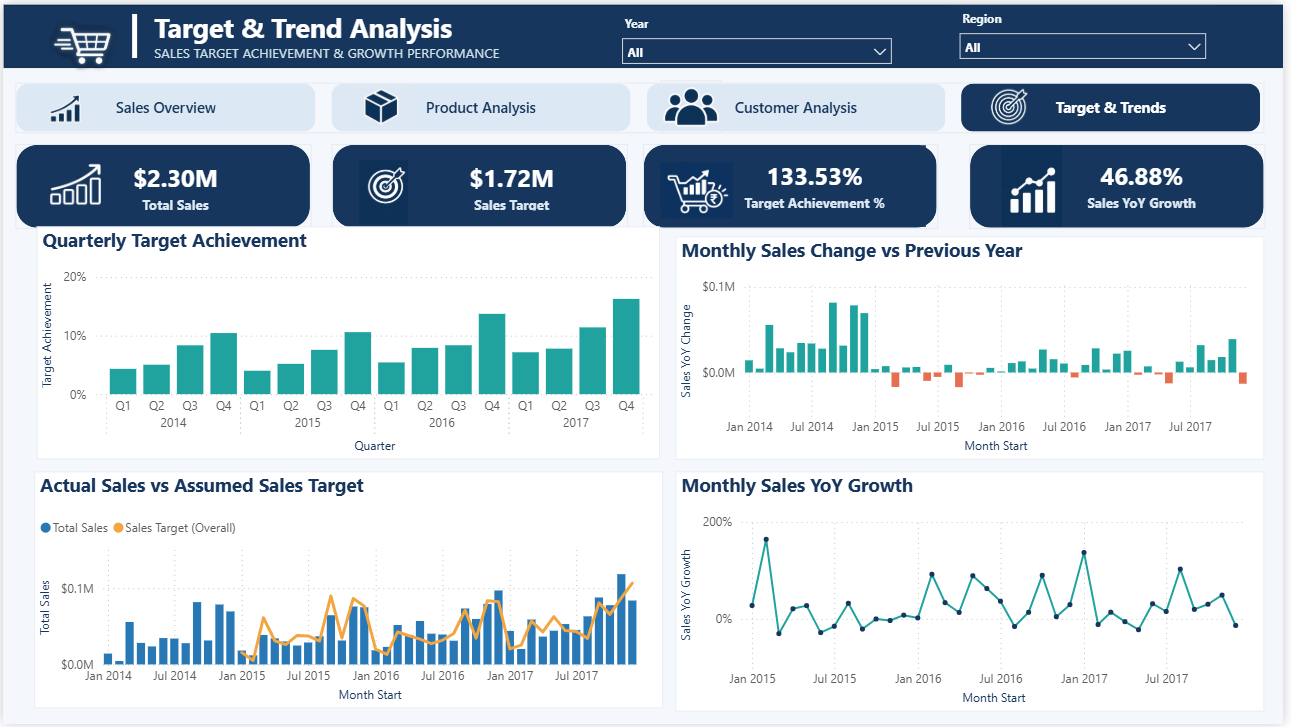

What the dashboard file says about the page in this screenshot:
{"tool":"powerbi","page":{"name":"Target & Trends ","canvas":[1280,720],"ordinal":3},"visuals":[{"type":"shape","box":[640,140,295,85],"z":0},{"type":"shape","box":[12.9,140,295.7,85],"z":1000},{"type":"shape","box":[328.6,140,295.7,85],"z":2000},{"type":"shape","box":[965.7,140,295.7,85],"z":3000},{"type":"shape","box":[0,0,1400,65],"z":4000},{"type":"textbox","box":[145.7,0,957.1,65.7],"z":5000},{"type":"image","box":[10,10,142.9,65.7],"z":6000},{"type":"pageNavigator","box":[12.9,78.6,1248.6,50],"z":7000},{"type":"cardVisual","fields":{"Data":["Fact_Sales.Total Sales"]},"box":[72.9,142.9,200,81],"z":8000},{"type":"image","box":[28.6,142.9,87.1,77.1],"z":9000},{"type":"image","box":[108.6,251.4,121.4,42.9],"z":10000},{"type":"slicer","title":"Year","fields":{"Values":["Dim_Date.Year"]},"box":[608.6,5.7,290,54.3],"z":12000},{"type":"slicer","fields":{"Values":["Fact_Sales.Region"]},"box":[945.7,1.4,267.1,61.4],"z":13000},{"type":"image","box":[980,82.9,51.4,40],"z":14000},{"type":"image","box":[34.3,87.1,57.1,34.3],"z":15000},{"type":"image","box":[657.1,75.7,61.4,52.9],"z":16000},{"type":"image","box":[347.1,82.9,61.4,41.4],"z":17000},{"type":"shape","box":[108.6,10,45.7,44.3],"z":18000},{"type":"cardVisual","fields":{"Data":["Dim_Date.Sales Target (Overall)"]},"box":[408.6,142.9,200,81],"z":19000},{"type":"cardVisual","fields":{"Data":["Dim_Date.Target Achievement % (Overall)"]},"box":[701.4,141.4,221.4,81.4],"z":20000},{"type":"cardVisual","fields":{"Data":["Dim_Date.Sales YoY Growth"]},"box":[1038.6,141.4,200,81],"z":21000},{"type":"lineStackedColumnComboChart","title":"Actual Sales vs Assumed Sales Target","fields":{"Y":["Fact_Sales.Total Sales"],"Y2":["Dim_Date.Sales Target (Overall)"],"Category":["Dim_Month.Month Start"]},"box":[31.4,467.1,628.6,237.1],"z":22000},{"type":"clusteredColumnChart","title":"Quarterly Target Achievement","fields":{"Category":["Dim_Date.Year","Dim_Date.Quarter"],"Y":["Dim_Date.Target Achievement % (Overall)"]},"box":[34.3,222.9,622.9,232.9],"z":23000},{"type":"clusteredColumnChart","title":"Monthly Sales Change vs Previous Year","fields":{"Category":["Dim_Date.Month Start"],"Y":["Fact_Sales.Sales YoY Change"]},"box":[672.9,232.9,588.6,222.9],"z":24000},{"type":"lineChart","title":"Monthly Sales YoY Growth","fields":{"Category":["Dim_Date.Month Start"],"Y":["Fact_Sales.Sales YoY Growth"]},"box":[672.9,467.1,588.6,240],"z":25000},{"type":"image","box":[977.1,141.4,102.9,81.4],"z":26000},{"type":"image","box":[350,155.7,61.4,64.3],"z":27000},{"type":"image","box":[657.1,152.9,72.9,67.1],"z":28000}]}

Visuals, with their boxes in screenshot pixels (x1, y1, x2, y2), scaled from the page's 1280x720 canvas onto the 1291x727 screenshot:
shape: pyautogui.locateOnScreen(646, 141, 943, 227)
shape: pyautogui.locateOnScreen(13, 141, 311, 227)
shape: pyautogui.locateOnScreen(331, 141, 630, 227)
shape: pyautogui.locateOnScreen(974, 141, 1272, 227)
shape: pyautogui.locateOnScreen(0, 0, 1290, 66)
textbox: pyautogui.locateOnScreen(147, 0, 1112, 66)
image: pyautogui.locateOnScreen(10, 10, 154, 76)
pageNavigator: pyautogui.locateOnScreen(13, 79, 1272, 130)
cardVisual - Fact_Sales.Total Sales: pyautogui.locateOnScreen(74, 144, 275, 226)
image: pyautogui.locateOnScreen(29, 144, 117, 222)
image: pyautogui.locateOnScreen(110, 254, 232, 297)
"Year" slicer: pyautogui.locateOnScreen(614, 6, 906, 61)
slicer - Fact_Sales.Region: pyautogui.locateOnScreen(954, 1, 1223, 63)
image: pyautogui.locateOnScreen(988, 84, 1040, 124)
image: pyautogui.locateOnScreen(35, 88, 92, 123)
image: pyautogui.locateOnScreen(663, 76, 725, 130)
image: pyautogui.locateOnScreen(350, 84, 412, 126)
shape: pyautogui.locateOnScreen(110, 10, 156, 55)
cardVisual - Dim_Date.Sales Target (Overall): pyautogui.locateOnScreen(412, 144, 614, 226)
cardVisual - Dim_Date.Target Achievement % (Overall): pyautogui.locateOnScreen(707, 143, 931, 225)
cardVisual - Dim_Date.Sales YoY Growth: pyautogui.locateOnScreen(1048, 143, 1249, 225)
"Actual Sales vs Assumed Sales Target" lineStackedColumnComboChart: pyautogui.locateOnScreen(32, 472, 666, 711)
"Quarterly Target Achievement" clusteredColumnChart: pyautogui.locateOnScreen(35, 225, 663, 460)
"Monthly Sales Change vs Previous Year" clusteredColumnChart: pyautogui.locateOnScreen(679, 235, 1272, 460)
"Monthly Sales YoY Growth" lineChart: pyautogui.locateOnScreen(679, 472, 1272, 714)
image: pyautogui.locateOnScreen(985, 143, 1089, 225)
image: pyautogui.locateOnScreen(353, 157, 415, 222)
image: pyautogui.locateOnScreen(663, 154, 736, 222)
